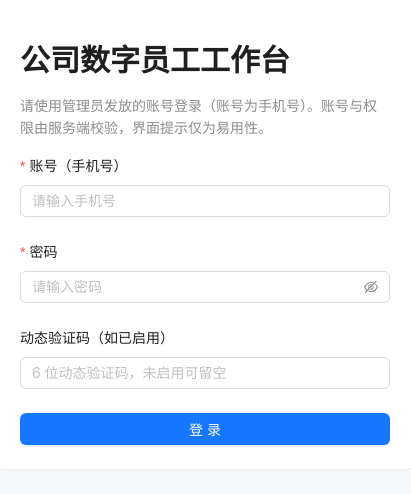
Test case: LoginPage › 401 需要动态验证码：如实提示，并保留验证码输入项供补齐后重试
Type "13800000000" into the field labelled "账号（手机号）". click: (205, 201)
box: [20,185,390,217]
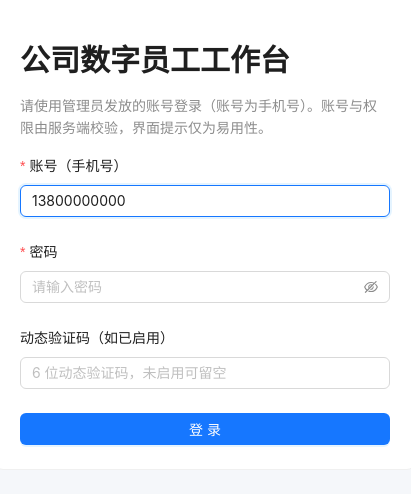
Type "pw-123456" into the password field labelled "密码". click: (196, 287)
box: [32,276,360,298]
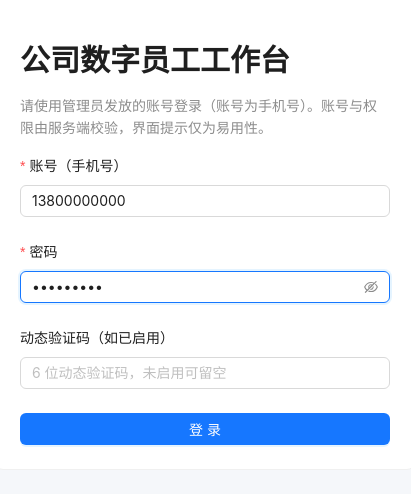
Click the button "登 录". click: (205, 429)
box: [20,413,390,445]
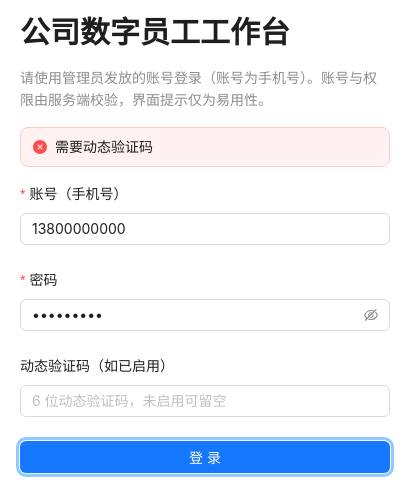
Expected: the field labelled "动态验证码（如已启用）" is shown, [20,385,390,417]
Result: the text "需要动态验证码" is shown at [55,138,153,155]
